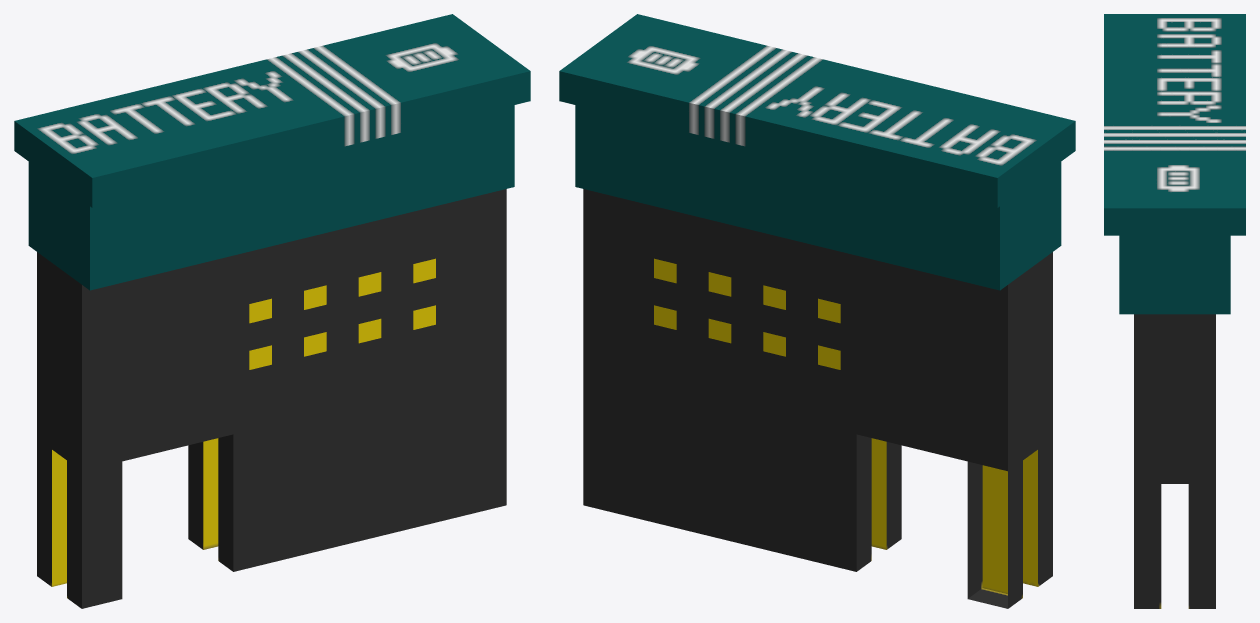
File: Bateria.fbx
3 renders of one model, left to right at view 1: azimuth 30°, elevation 25°; view 2: azimuth 150°, elevation 25°; view 3: azimuth 270°, elevation 25°, orthographic. The views are drawn at different scales.
Parts seen in each view (by area): view 1: 2; view 2: 2; view 3: 2.
Boxes of the visible parts, box(x1,y1,x2,y2) form: 2: box(14, 14, 530, 608); 2: box(559, 14, 1075, 608); 2: box(1104, 14, 1245, 608).
Size of the model in its own units: 206 by 200 by 63.61.
Materials: 1 (1 with a texture image).
